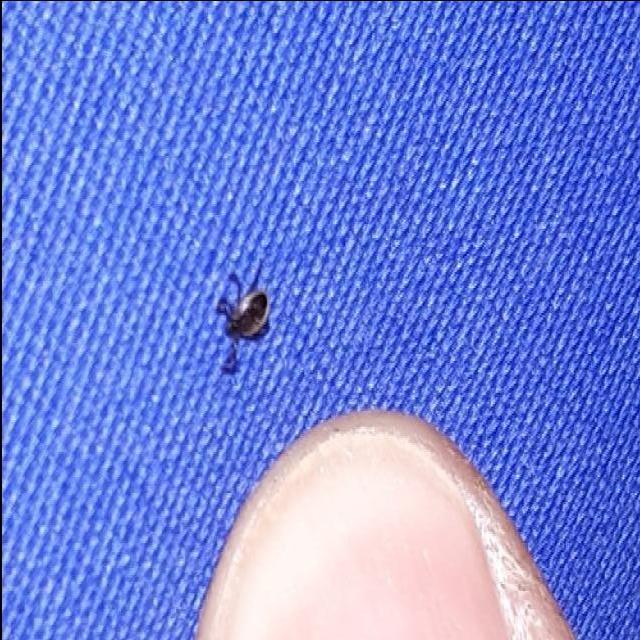Ixodes Ricinus-M: (215, 264, 269, 374)
